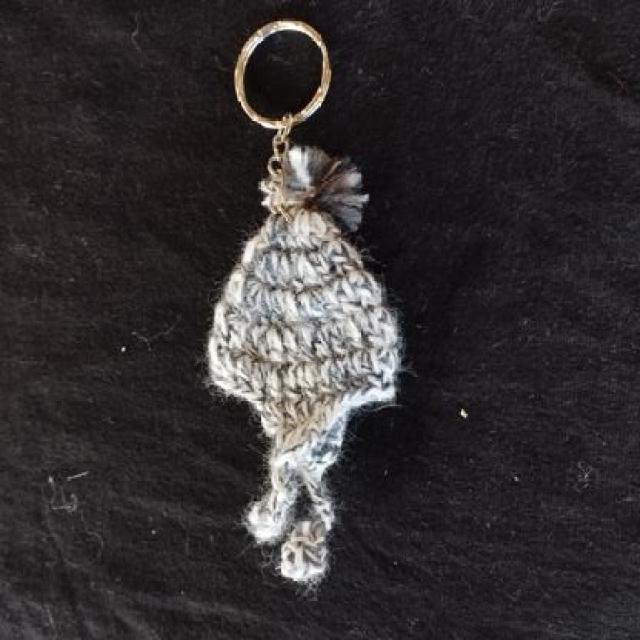Llavero: (205, 142, 406, 586)
